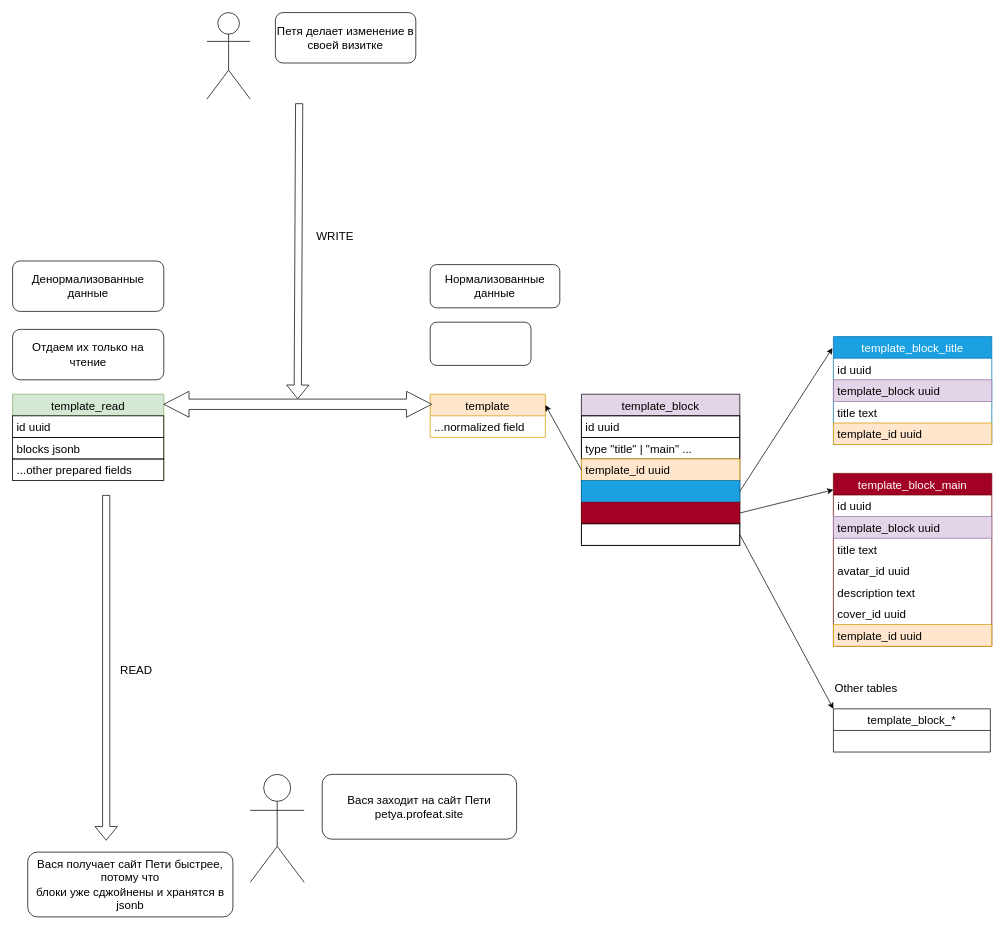
Some shapes in this 1004 by 930 pixel diagram are drawn without their labels. The centre of each missing label's shape, as x and y in pixels:
"main_id uuid" belongs at [660,512].
"other block types..." belongs at [660,534].
"title_id uuid" belongs at [660,491].
"Вася" belongs at [276,828].
"Петя" belongs at [228,55].
"Работаем мы с ними" belongs at [480,343].
